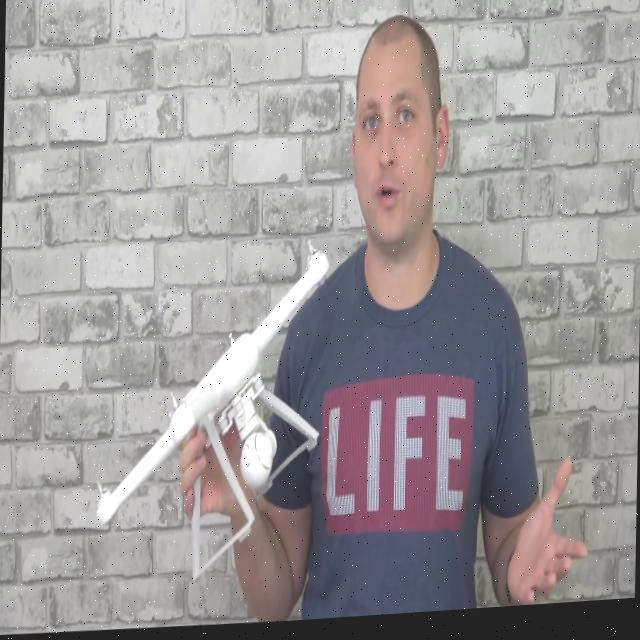drone: (92, 220, 340, 571)
